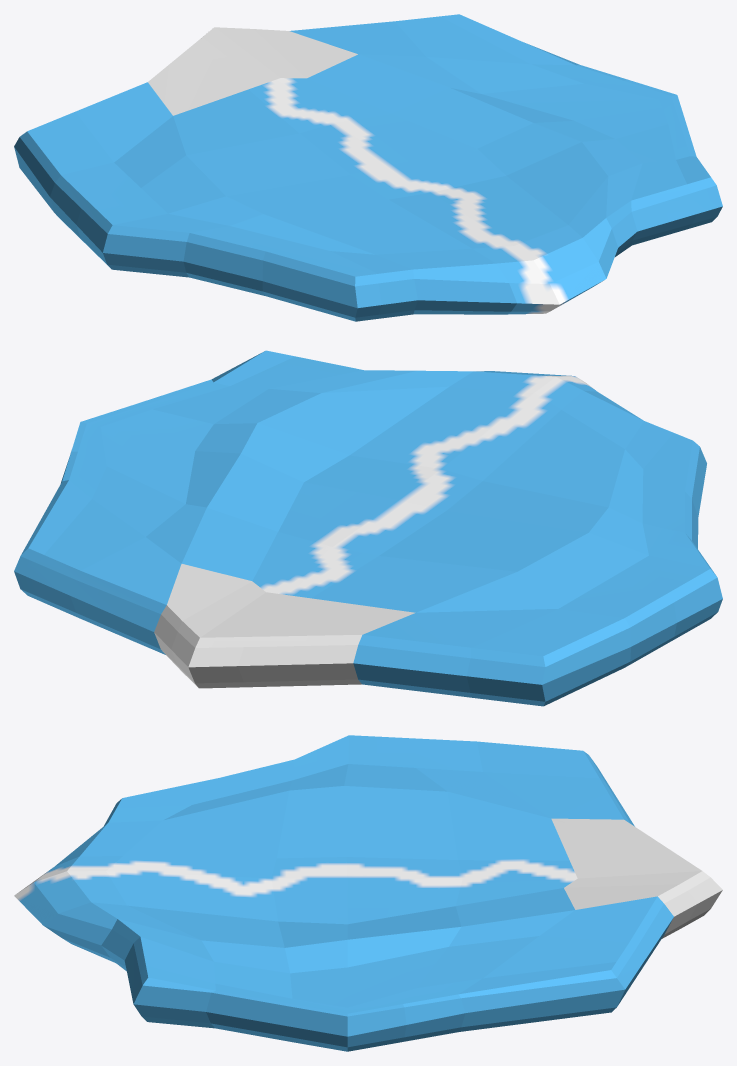
The model's file is BreakIce2.fbx.
3 renders of one model, top to bottom at view 1: azimuth 30°, elevation 25°; view 2: azimuth 150°, elevation 25°; view 3: azimuth 270°, elevation 25°, orthographic. The views are drawn at different scales.
Parts seen in each view (by area): view 1: Ice_ITA1:Ita_Ice1.002, Ice_ITA1:Ita_Ice1, Ice_ITA1:Ita_Ice1.008, Ice_ITA1:Ita_Ice1.001, Ice_ITA1:Ita_Ice1.007, Ice_ITA1:Ita_Ice1.003, Ice_ITA1:Ita_Ice1.004, Ice_ITA1:Ita_Ice1.006, Ice_ITA1:Ita_Ice1.005; view 2: Ice_ITA1:Ita_Ice1.002, Ice_ITA1:Ita_Ice1.001, Ice_ITA1:Ita_Ice1, Ice_ITA1:Ita_Ice1.008, Ice_ITA1:Ita_Ice1.003, Ice_ITA1:Ita_Ice1.004, Ice_ITA1:Ita_Ice1.007, Ice_ITA1:Ita_Ice1.006, Ice_ITA1:Ita_Ice1.005; view 3: Ice_ITA1:Ita_Ice1.002, Ice_ITA1:Ita_Ice1, Ice_ITA1:Ita_Ice1.007, Ice_ITA1:Ita_Ice1.008, Ice_ITA1:Ita_Ice1.004, Ice_ITA1:Ita_Ice1.001, Ice_ITA1:Ita_Ice1.003, Ice_ITA1:Ita_Ice1.006, Ice_ITA1:Ita_Ice1.005.
Boxes of the visible parts, <box> form: Ice_ITA1:Ita_Ice1.002: <box>103,149,606,321</box>; Ice_ITA1:Ita_Ice1: <box>173,78,476,196</box>; Ice_ITA1:Ita_Ice1.008: <box>307,54,642,224</box>; Ice_ITA1:Ita_Ice1.001: <box>14,82,225,268</box>; Ice_ITA1:Ita_Ice1.007: <box>427,57,696,163</box>; Ice_ITA1:Ita_Ice1.003: <box>148,27,357,115</box>; Ice_ITA1:Ita_Ice1.004: <box>290,14,578,65</box>; Ice_ITA1:Ita_Ice1.006: <box>631,156,722,245</box>; Ice_ITA1:Ita_Ice1.005: <box>555,163,642,308</box>; Ice_ITA1:Ita_Ice1.002: <box>304,371,716,576</box>; Ice_ITA1:Ita_Ice1.001: <box>353,533,722,706</box>; Ice_ITA1:Ita_Ice1: <box>252,482,588,612</box>; Ice_ITA1:Ita_Ice1.008: <box>146,386,448,580</box>; Ice_ITA1:Ita_Ice1.003: <box>154,564,415,688</box>; Ice_ITA1:Ita_Ice1.004: <box>14,480,181,654</box>; Ice_ITA1:Ita_Ice1.007: <box>60,379,268,536</box>; Ice_ITA1:Ita_Ice1.006: <box>211,350,363,388</box>; Ice_ITA1:Ita_Ice1.005: <box>269,370,472,392</box>; Ice_ITA1:Ita_Ice1.002: <box>14,735,348,925</box>; Ice_ITA1:Ita_Ice1: <box>344,786,577,924</box>; Ice_ITA1:Ita_Ice1.007: <box>206,936,538,1051</box>; Ice_ITA1:Ita_Ice1.008: <box>128,888,574,973</box>; Ice_ITA1:Ita_Ice1.004: <box>458,896,673,1031</box>; Ice_ITA1:Ita_Ice1.001: <box>344,735,634,826</box>; Ice_ITA1:Ita_Ice1.003: <box>551,818,722,938</box>; Ice_ITA1:Ita_Ice1.006: <box>124,937,215,1028</box>; Ice_ITA1:Ita_Ice1.005: <box>15,896,213,971</box>.
Bounding box in the file's own units: 784 × 73.19 × 833.
